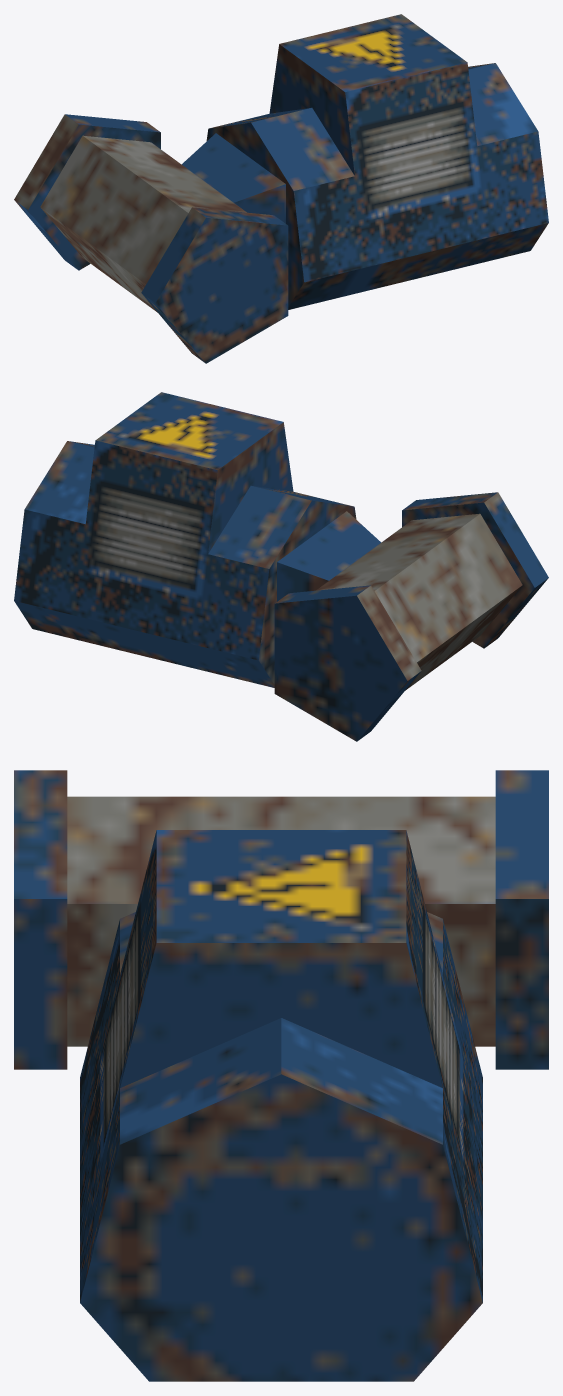
The model's file is retro_pump.glb.
3 renders of one model, top to bottom at view 1: azimuth 30°, elevation 25°; view 2: azimuth 150°, elevation 25°; view 3: azimuth 270°, elevation 25°, orthographic. The views are drawn at different scales.
Visible parts, largest first — view 1: instance_4; view 2: instance_4; view 3: instance_4.
Part boxes in pixels (bbox=[...]): instance_4: bbox=[14, 14, 548, 363]; instance_4: bbox=[14, 392, 548, 741]; instance_4: bbox=[14, 770, 548, 1381].
Size of the model in its own units: 0.8397 by 0.3944 by 0.5002.
Materials: 1 (1 with a texture image).
